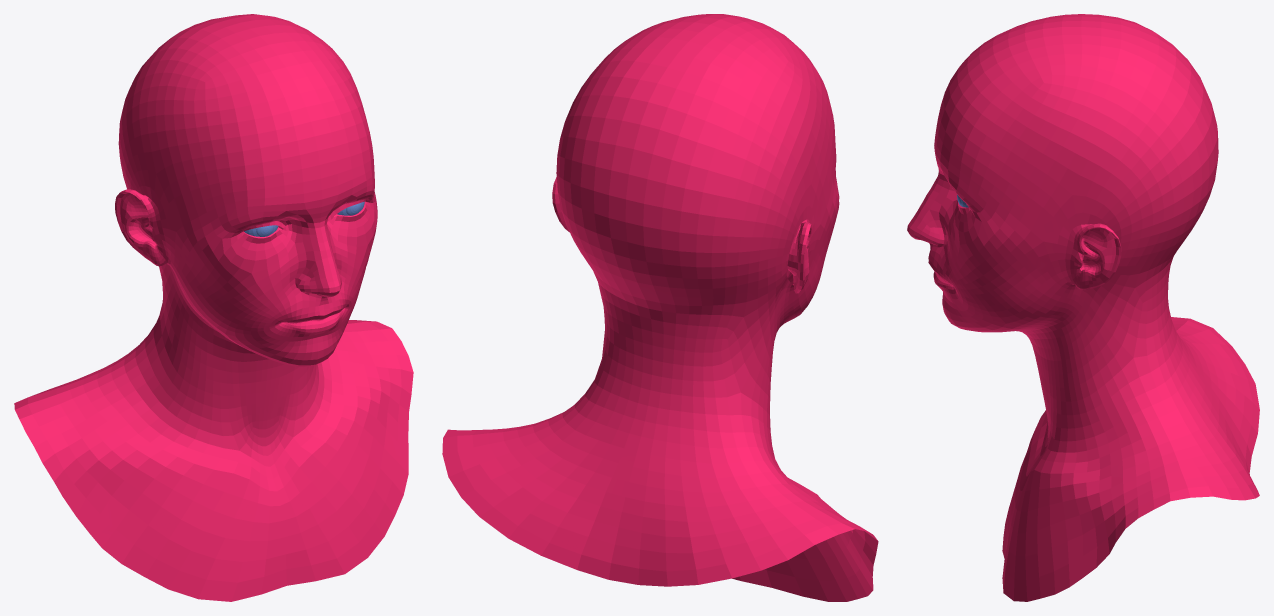
Rendered from head4.gltf.
3 renders of one model, left to right at view 1: azimuth 30°, elevation 25°; view 2: azimuth 150°, elevation 25°; view 3: azimuth 270°, elevation 25°, orthographic. The views are drawn at different scales.
Parts seen in each view (by area): view 1: Head_female.001; view 2: Head_female.001; view 3: Head_female.001.
Boxes of the visible parts, x1=… form: Head_female.001: x1=14, y1=14, x2=413, y2=601; Head_female.001: x1=442, y1=14, x2=878, y2=601; Head_female.001: x1=907, y1=14, x2=1259, y2=601.
Size of the model in its own units: 0.2836 by 0.3832 by 0.2277.
